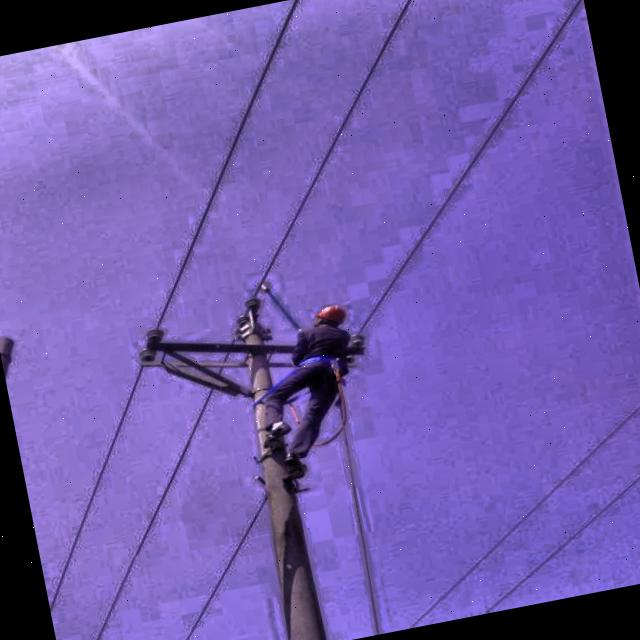helmet: (306, 296, 352, 336)
